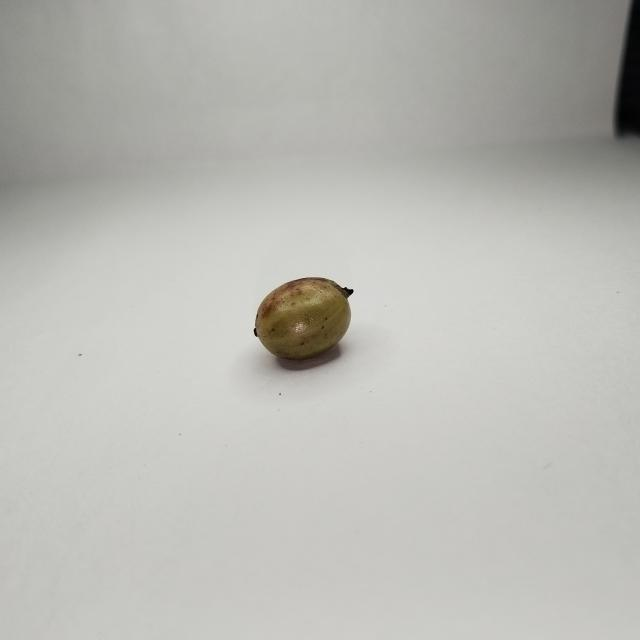Sano: (254, 278, 352, 360)
